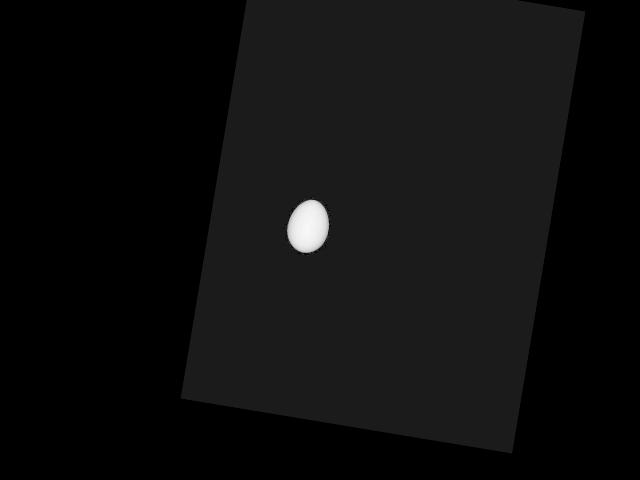egg: (284, 197, 333, 256)
